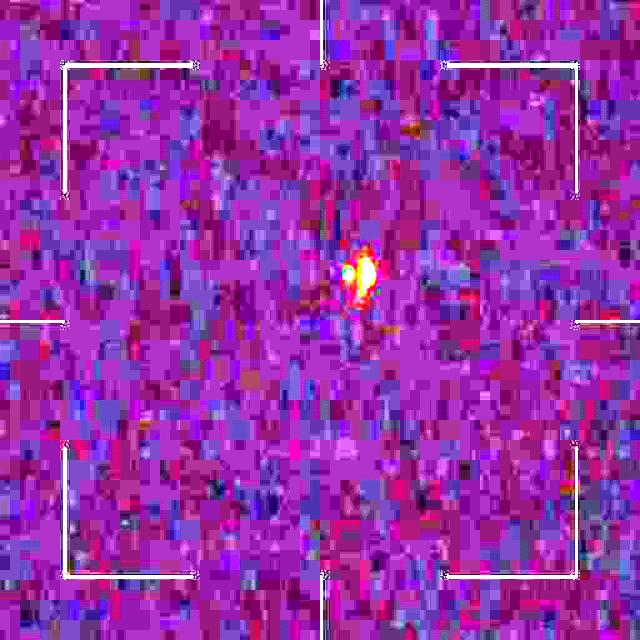bird: (340, 258, 378, 306)
